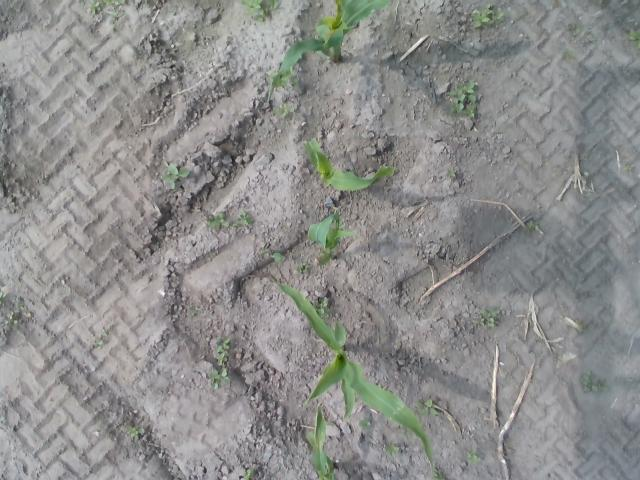Maize: (258, 280, 436, 476), (268, 2, 402, 103), (304, 138, 400, 266), (302, 402, 366, 480)
Weeds: (210, 333, 232, 395), (450, 82, 480, 118), (88, 0, 128, 26), (0, 292, 26, 330), (472, 4, 504, 29), (246, 0, 281, 22), (582, 371, 610, 396), (161, 161, 187, 187), (475, 306, 502, 331), (124, 424, 150, 448), (88, 325, 110, 353), (273, 102, 298, 126), (416, 398, 440, 422), (314, 288, 331, 318), (236, 206, 256, 230), (208, 212, 228, 235), (463, 448, 485, 468), (628, 24, 640, 58), (262, 247, 285, 264), (357, 414, 375, 432), (387, 440, 403, 459), (295, 258, 310, 273), (237, 468, 257, 479), (446, 170, 461, 183)
